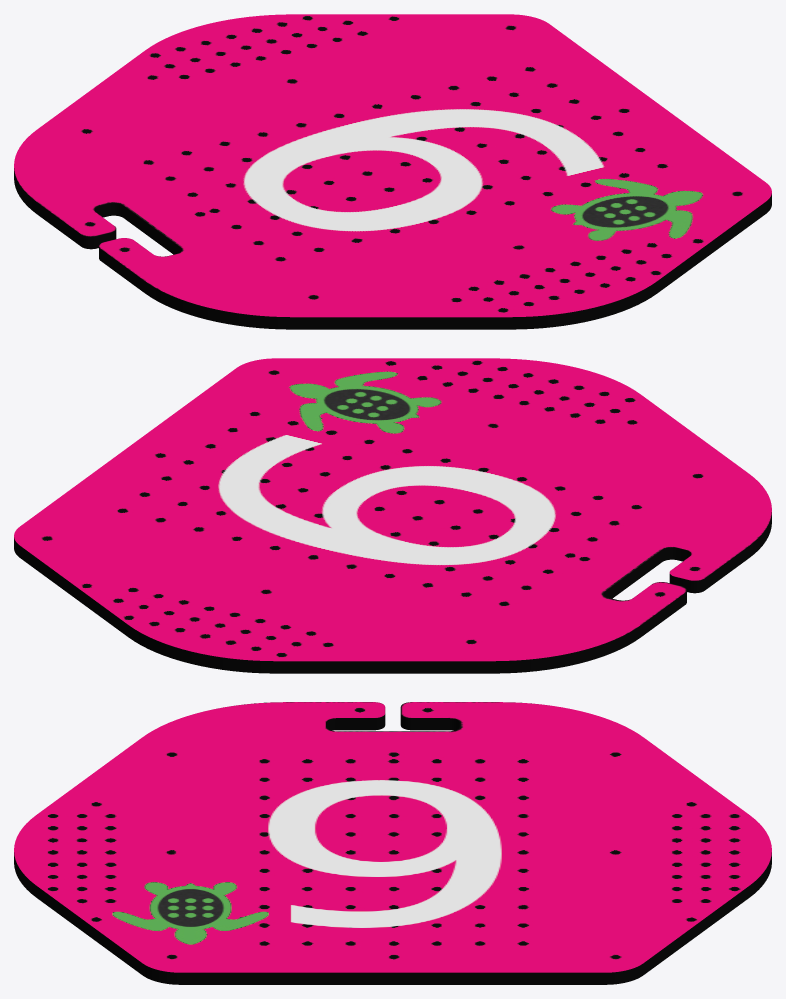
Rendered from plate_top_pink.dae.
The picture shows the model from 3 angles, top to bottom: view 1: azimuth 30°, elevation 25°; view 2: azimuth 150°, elevation 25°; view 3: azimuth 270°, elevation 25°; orthographic projection. The views are drawn at different scales.
Visible parts, largest first — view 1: _f_stack; view 2: _f_stack; view 3: _f_stack.
Boxes of the visible parts, <box> form: _f_stack: <box>14,14,771,329</box>; _f_stack: <box>14,358,771,673</box>; _f_stack: <box>14,702,771,984</box>.
Size of the model in its own units: 0.2873 by 0.34 by 0.006.
Materials: 1 (1 with a texture image).
